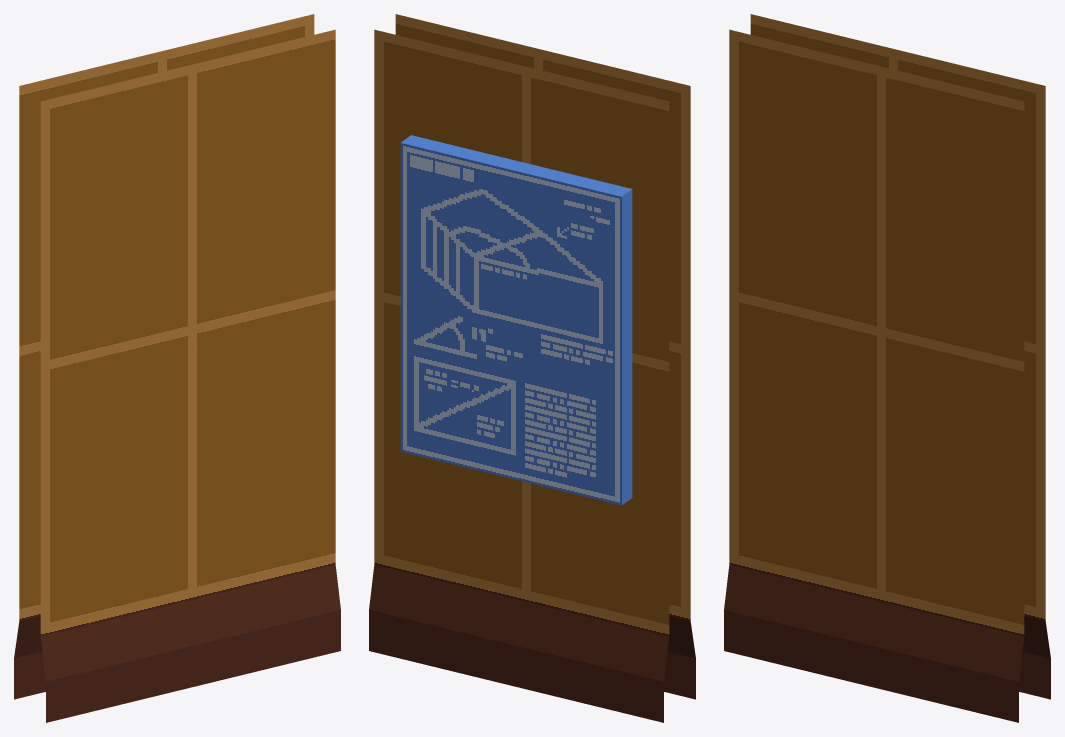
The model's file is BuildWall2.gltf.
The picture shows the model from 3 angles, left to right: view 1: azimuth 30°, elevation 25°; view 2: azimuth 150°, elevation 25°; view 3: azimuth 330°, elevation 25°; orthographic projection.
Parts seen in each view (by area): view 1: cuboid; view 2: cuboid; view 3: cuboid.
Part boxes in pixels (<box>): cuboid: <box>14,14,340,722</box>; cuboid: <box>369,14,695,722</box>; cuboid: <box>724,14,1050,722</box>.
Bounding box in the file's own units: 2 × 4 × 0.4375.
1 material, 1 textured.
